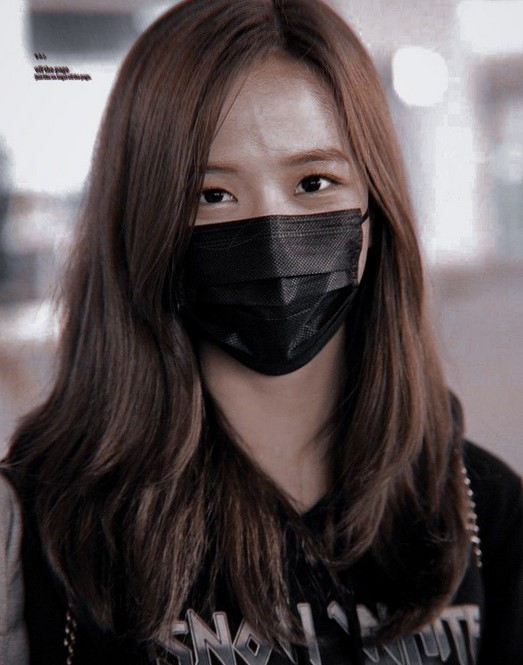face_with_mask: (133, 25, 402, 373)
